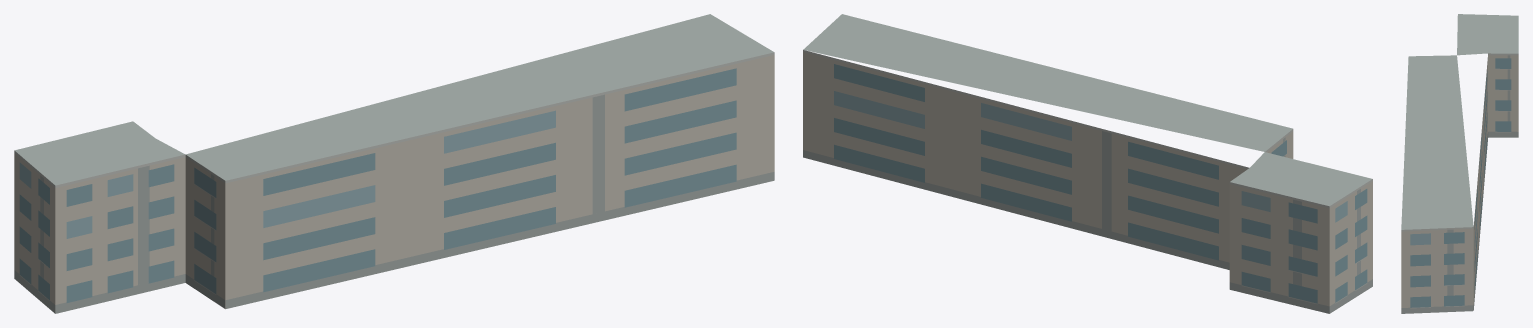
File: residential-441391d9-18d9-4a48-9db8-71b79eee9227.glb
The picture shows the model from 3 angles, left to right: view 1: azimuth 30°, elevation 25°; view 2: azimuth 150°, elevation 25°; view 3: azimuth 270°, elevation 25°; orthographic projection. The views are drawn at different scales.
Visible parts, largest first — view 1: residential-441391d9-18d9-4a48-9db8-71b79eee9227.tmp; view 2: residential-441391d9-18d9-4a48-9db8-71b79eee9227.tmp; view 3: residential-441391d9-18d9-4a48-9db8-71b79eee9227.tmp.
Boxes of the visible parts, bbox=[...] form: residential-441391d9-18d9-4a48-9db8-71b79eee9227.tmp: bbox=[14, 14, 774, 313]; residential-441391d9-18d9-4a48-9db8-71b79eee9227.tmp: bbox=[803, 14, 1372, 313]; residential-441391d9-18d9-4a48-9db8-71b79eee9227.tmp: bbox=[1401, 14, 1518, 313].
Bounding box in the file's own units: 67.25 × 12.2 × 15.47.
